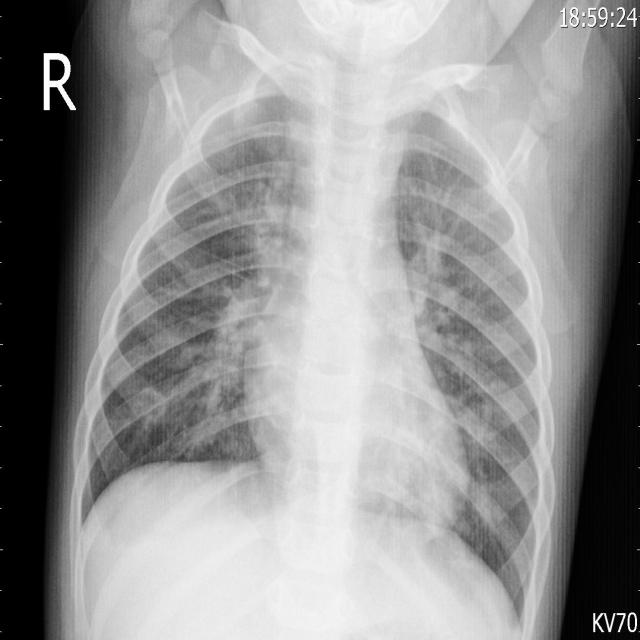low-pneumonia: (177, 280, 268, 456), (249, 114, 312, 271), (405, 187, 464, 342)
